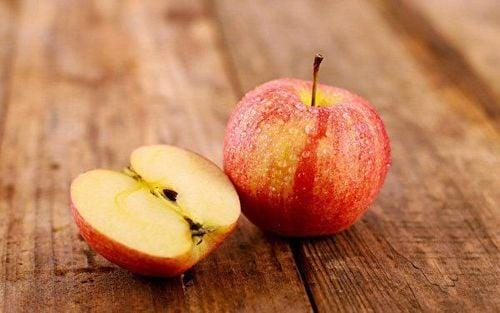apples: (69, 54, 392, 281)
